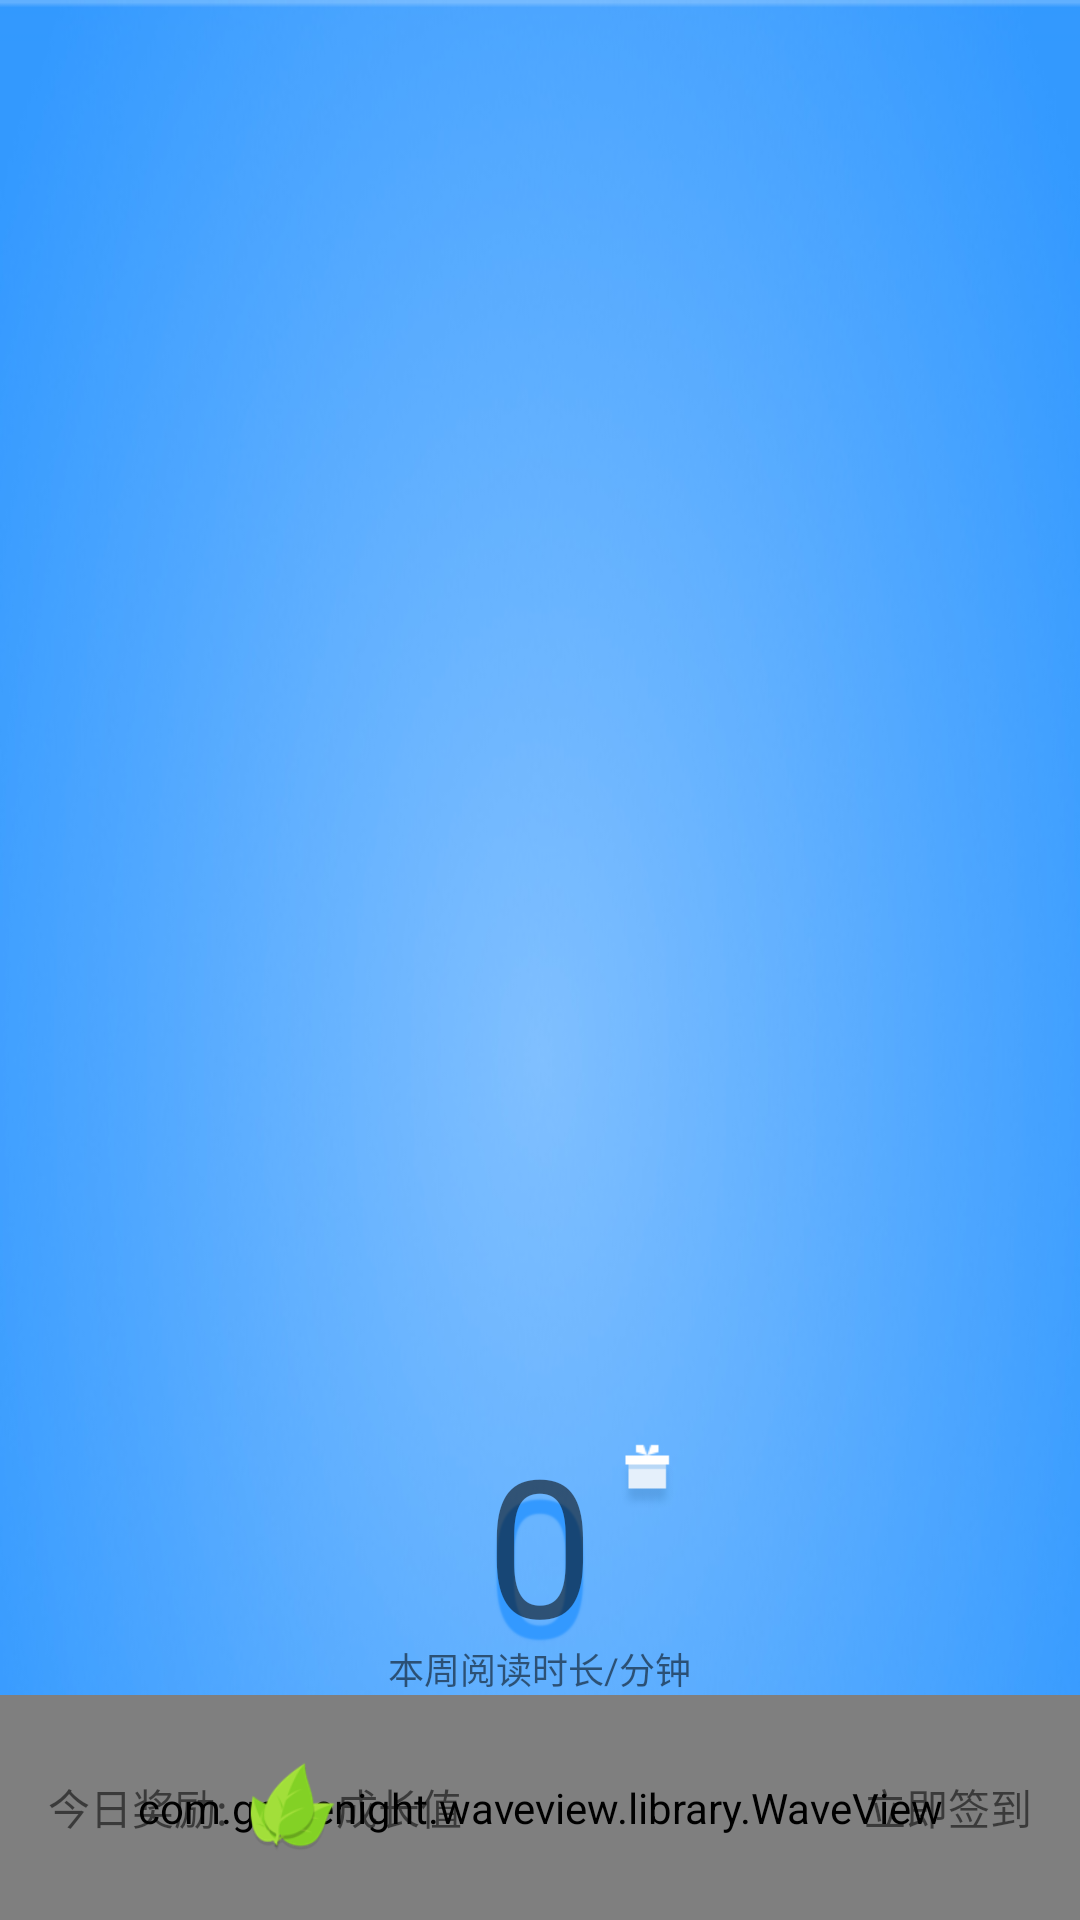

Where to tap for icons on this 1080*1920 app screen, as point (x, y):
liwu nao: point (647, 1466)
